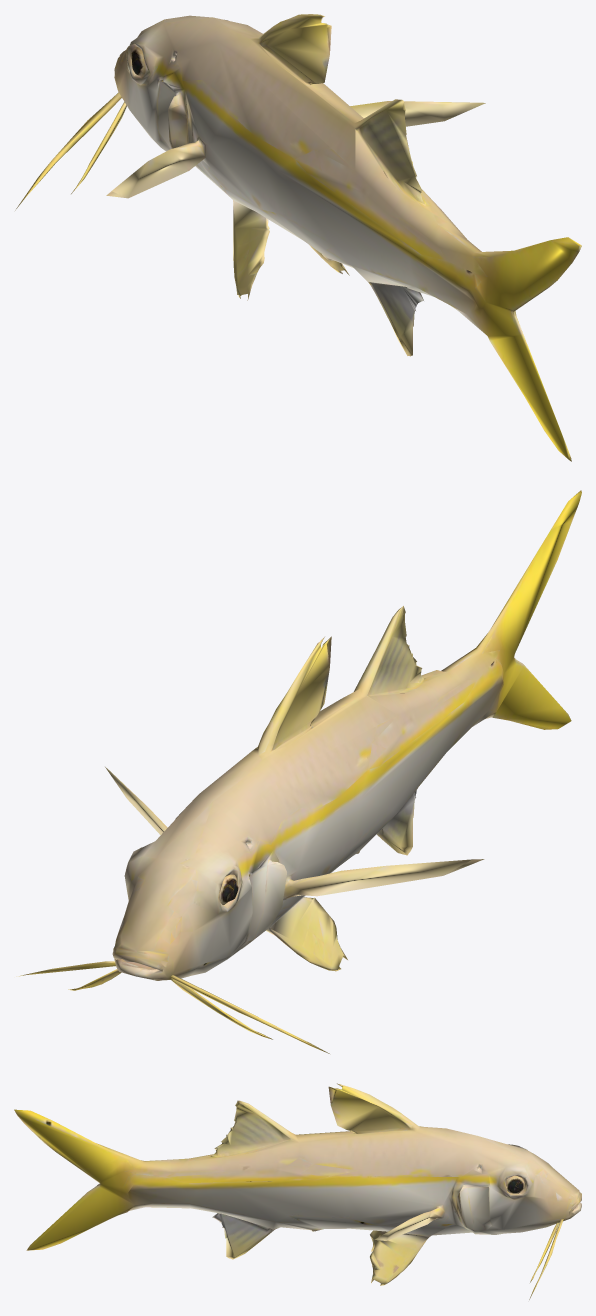
Rendered from gele_geitenvis.glb.
3 views of the same model, one above another, from view 1: azimuth 30°, elevation 25°; view 2: azimuth 150°, elevation 25°; view 3: azimuth 270°, elevation 25° (orthographic). The views are drawn at different scales.
Visible parts, largest first — view 1: tripo_node_f49fe66d-a244-4916-a406-d44ea614bd53; view 2: tripo_node_f49fe66d-a244-4916-a406-d44ea614bd53; view 3: tripo_node_f49fe66d-a244-4916-a406-d44ea614bd53.
Part boxes in pixels (x1,y1,x2,y2): tripo_node_f49fe66d-a244-4916-a406-d44ea614bd53: (15,14,581,461); tripo_node_f49fe66d-a244-4916-a406-d44ea614bd53: (16,490,581,1053); tripo_node_f49fe66d-a244-4916-a406-d44ea614bd53: (14,1083,581,1299).
Size of the model in its own units: 1.35 by 1 by 2.76.
Materials: 1 (1 with a texture image).
